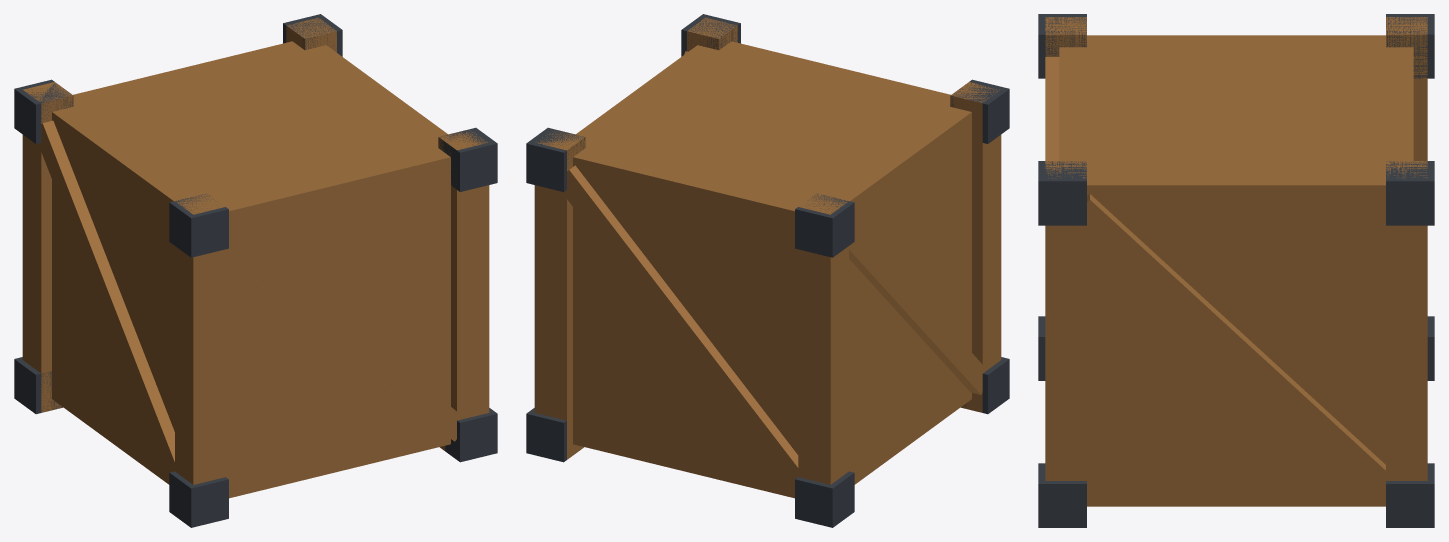
File: prop_crate.glb
3 views of the same model, side by side, from view 1: azimuth 30°, elevation 25°; view 2: azimuth 150°, elevation 25°; view 3: azimuth 270°, elevation 25° (orthographic). The views are drawn at different scales.
Visible parts, largest first — view 1: prop_crate; view 2: prop_crate; view 3: prop_crate.
Part boxes in pixels (<box>): prop_crate: <box>14,14,497,527</box>; prop_crate: <box>526,14,1009,527</box>; prop_crate: <box>1038,14,1434,527</box>.
Size of the model in its own units: 1.14 by 1.1 by 1.14.
